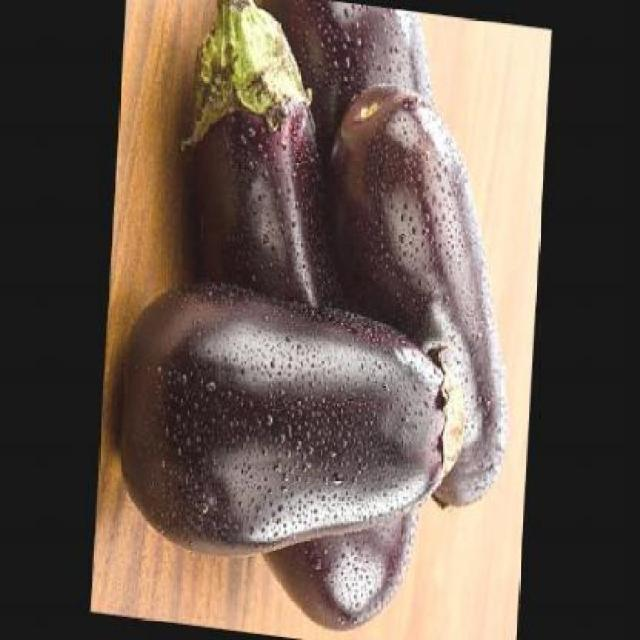eggplant: (151, 0, 446, 638), (110, 268, 472, 588), (306, 75, 526, 517), (251, 0, 437, 186)
